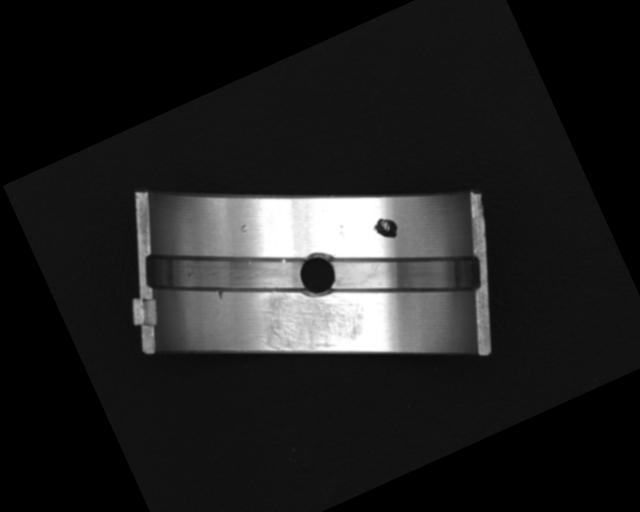blot: (370, 213, 402, 245)
bruise: (213, 285, 227, 301), (238, 222, 250, 234)
gap: (141, 195, 319, 348), (318, 201, 492, 352)
hole: (286, 244, 346, 305)
scratch: (248, 259, 377, 375)
